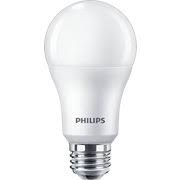bulb: (36, 1, 148, 156)
